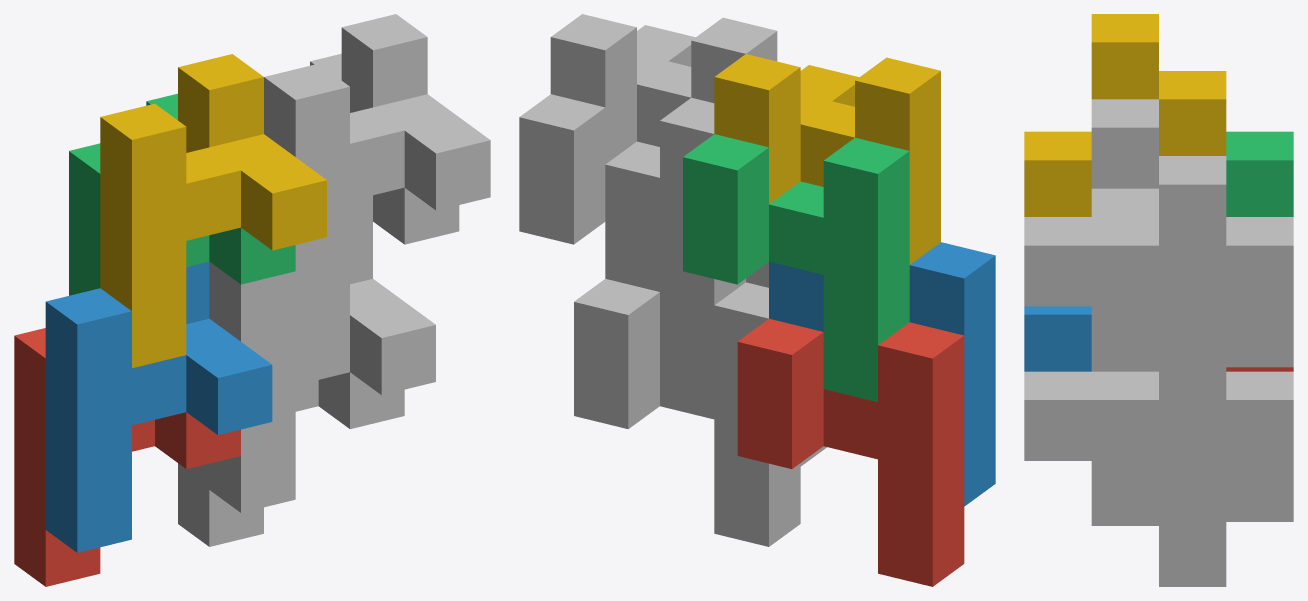
The model's file is tiling.obj.
3 views of the same model, side by side, from view 1: azimuth 30°, elevation 25°; view 2: azimuth 150°, elevation 25°; view 3: azimuth 270°, elevation 25° (orthographic). The views are drawn at different scales.
Parts seen in each view (by area): view 1: copy_1_domain_4, copy_1_domain_2, copy_1_domain_8, copy_1_domain_6, copy_1_domain_1, copy_1_domain_3, copy_1_domain_5, copy_1_domain_7; view 2: copy_1_domain_1, copy_1_domain_3, copy_1_domain_5, copy_1_domain_7, copy_1_domain_4, copy_1_domain_8, copy_1_domain_2, copy_1_domain_6; view 3: copy_1_domain_8, copy_1_domain_5, copy_1_domain_6, copy_1_domain_7, copy_1_domain_4, copy_1_domain_3, copy_1_domain_2.
Part boxes in pixels (x1=…): copy_1_domain_4: x1=100, y1=54, x2=326, y2=368; copy_1_domain_2: x1=45, y1=261, x2=272, y2=552; copy_1_domain_8: x1=264, y1=14, x2=490, y2=328; copy_1_domain_6: x1=209, y1=221, x2=435, y2=512; copy_1_domain_1: x1=14, y1=328, x2=240, y2=586; copy_1_domain_3: x1=69, y1=93, x2=295, y2=295; copy_1_domain_5: x1=178, y1=372, x2=404, y2=546; copy_1_domain_7: x1=310, y1=53, x2=459, y2=244; copy_1_domain_1: x1=737, y1=318, x2=964, y2=586; copy_1_domain_3: x1=683, y1=134, x2=909, y2=402; copy_1_domain_5: x1=574, y1=279, x2=800, y2=546; copy_1_domain_7: x1=519, y1=94, x2=745, y2=362; copy_1_domain_4: x1=714, y1=54, x2=940, y2=264; copy_1_domain_8: x1=550, y1=14, x2=777, y2=164; copy_1_domain_2: x1=769, y1=242, x2=995, y2=506; copy_1_domain_6: x1=605, y1=221, x2=827, y2=466; copy_1_domain_8: x1=1024, y1=99, x2=1226, y2=371; copy_1_domain_5: x1=1091, y1=371, x2=1293, y2=586; copy_1_domain_6: x1=1024, y1=367, x2=1226, y2=525; copy_1_domain_7: x1=1091, y1=217, x2=1293, y2=367; copy_1_domain_4: x1=1024, y1=14, x2=1226, y2=216; copy_1_domain_3: x1=1226, y1=131, x2=1293, y2=216; copy_1_domain_2: x1=1024, y1=306, x2=1091, y2=371.
Size of the model in its own units: 7 by 8 by 4.
